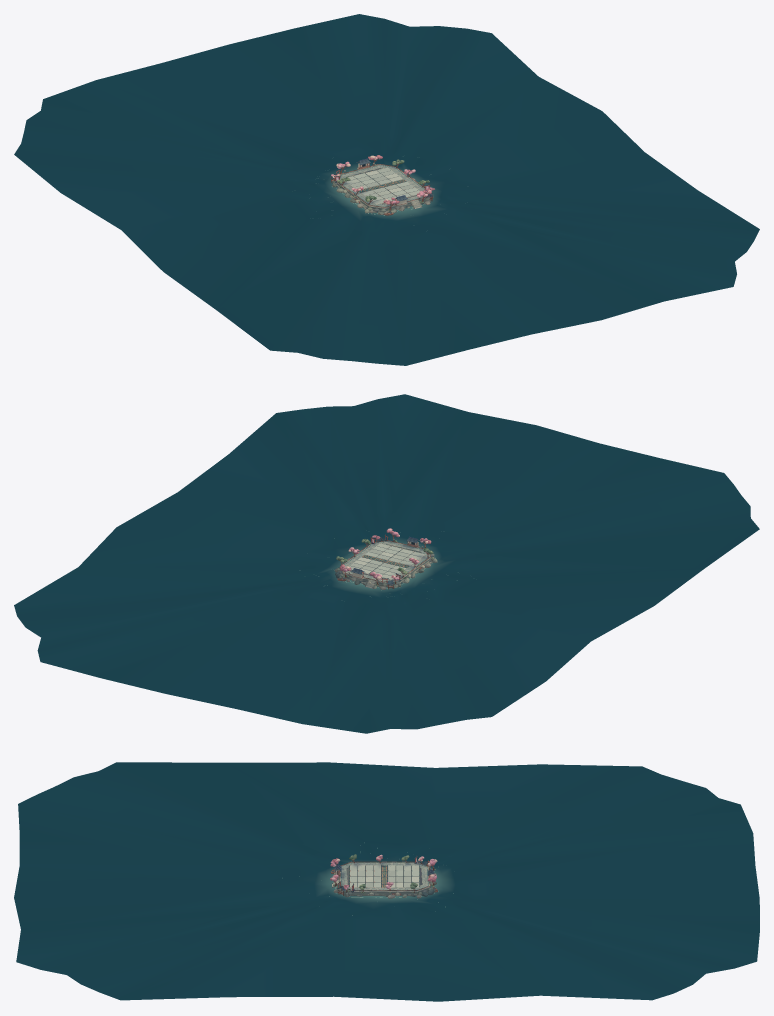
The model's file is arena_japan.glb.
3 renders of one model, top to bottom at view 1: azimuth 30°, elevation 25°; view 2: azimuth 150°, elevation 25°; view 3: azimuth 270°, elevation 25°, orthographic. The views are drawn at different scales.
Visible parts, largest first — view 1: Portrait arena with baked illumination; view 2: Portrait arena with baked illumination; view 3: Portrait arena with baked illumination.
Boxes of the visible parts, x1,y1,x2,y2 form: Portrait arena with baked illumination: [14, 14, 759, 365]; Portrait arena with baked illumination: [14, 394, 759, 733]; Portrait arena with baked illumination: [14, 762, 759, 1001].
Size of the model in its own units: 123 by 4.07 by 161.
